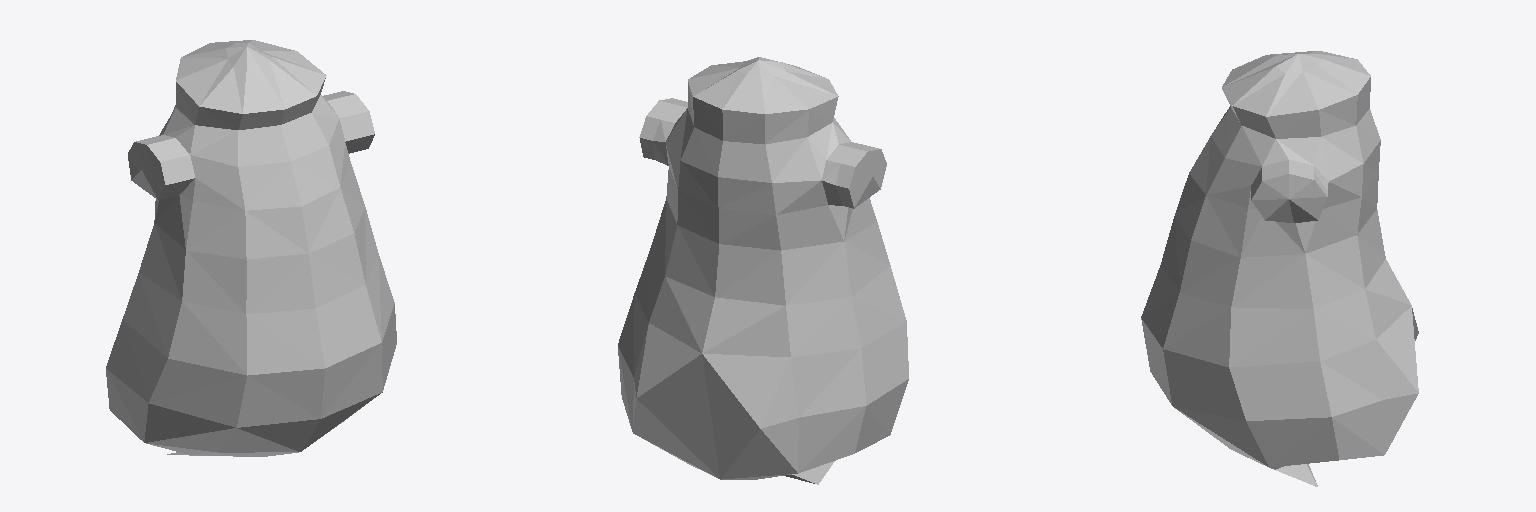
File: body-4_shoutmon.blend.obj
3 renders of one model, left to right at view 1: azimuth 30°, elevation 25°; view 2: azimuth 150°, elevation 25°; view 3: azimuth 270°, elevation 25°, orthographic.
Parts seen in each view (by area): view 1: body-4_shoutmon.blend_Mesh.012; view 2: body-4_shoutmon.blend_Mesh.012; view 3: body-4_shoutmon.blend_Mesh.012.
Boxes of the visible parts, x1=… form: body-4_shoutmon.blend_Mesh.012: x1=106, y1=40, x2=396, y2=456; body-4_shoutmon.blend_Mesh.012: x1=618, y1=57, x2=908, y2=484; body-4_shoutmon.blend_Mesh.012: x1=1141, y1=51, x2=1418, y2=486.
Size of the model in its own units: 0.6879 by 1.07 by 0.665.